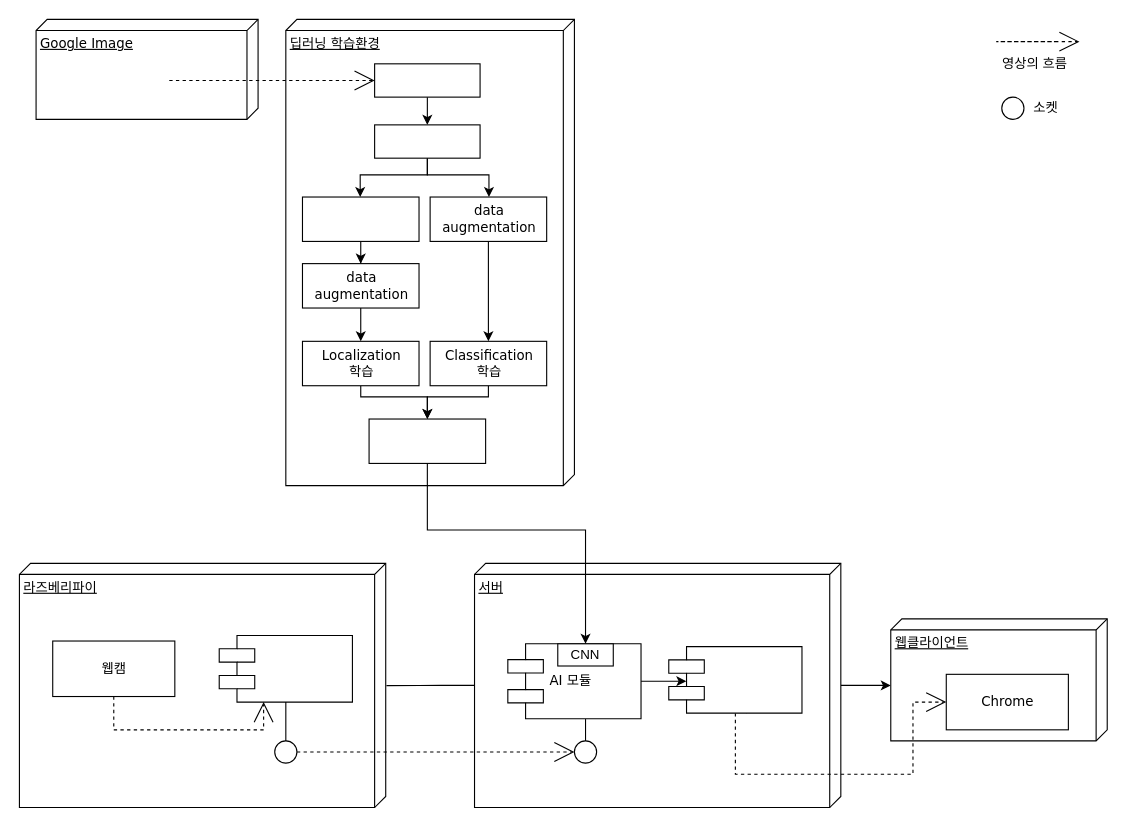
Some shapes in this 1127 by 827 pixel diagram are drawn without their labels. Here are the shapes that lost their labels. From the top down, the centre of each, then its label:
At [427,80]: "image crawling".
At [427,141]: "data cleansing".
At [360,218]: "data annotation".
At [427,440]: "CNN 모델".
At [285,668]: "스트리밍 모듈".
At [735,679]: "Apache".
